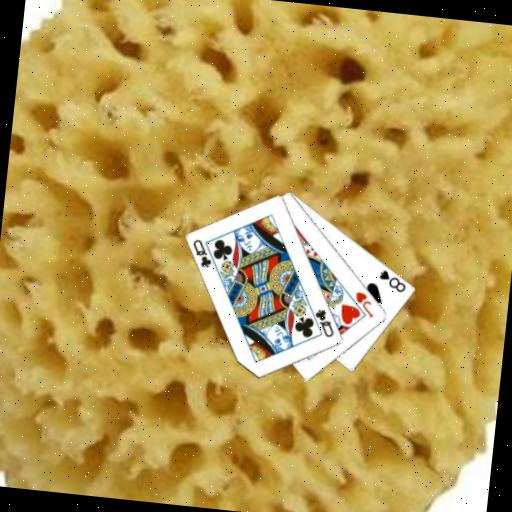8S: (375, 266, 409, 295)
JH: (351, 289, 378, 320)
QC: (310, 306, 339, 340), (188, 236, 216, 270)
